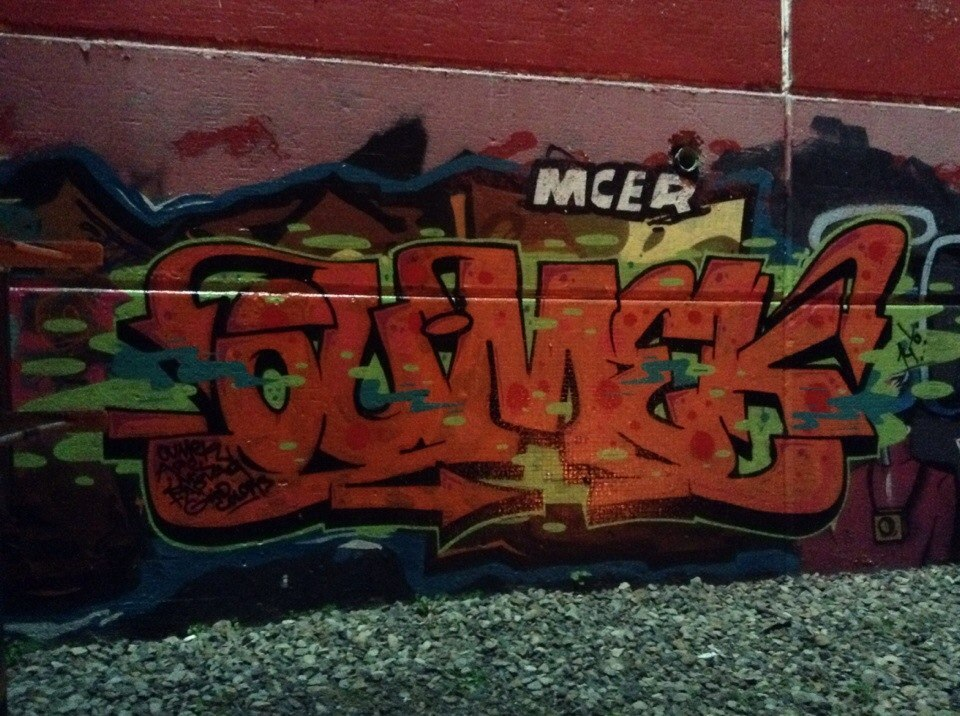graffity: (2, 134, 956, 646)
